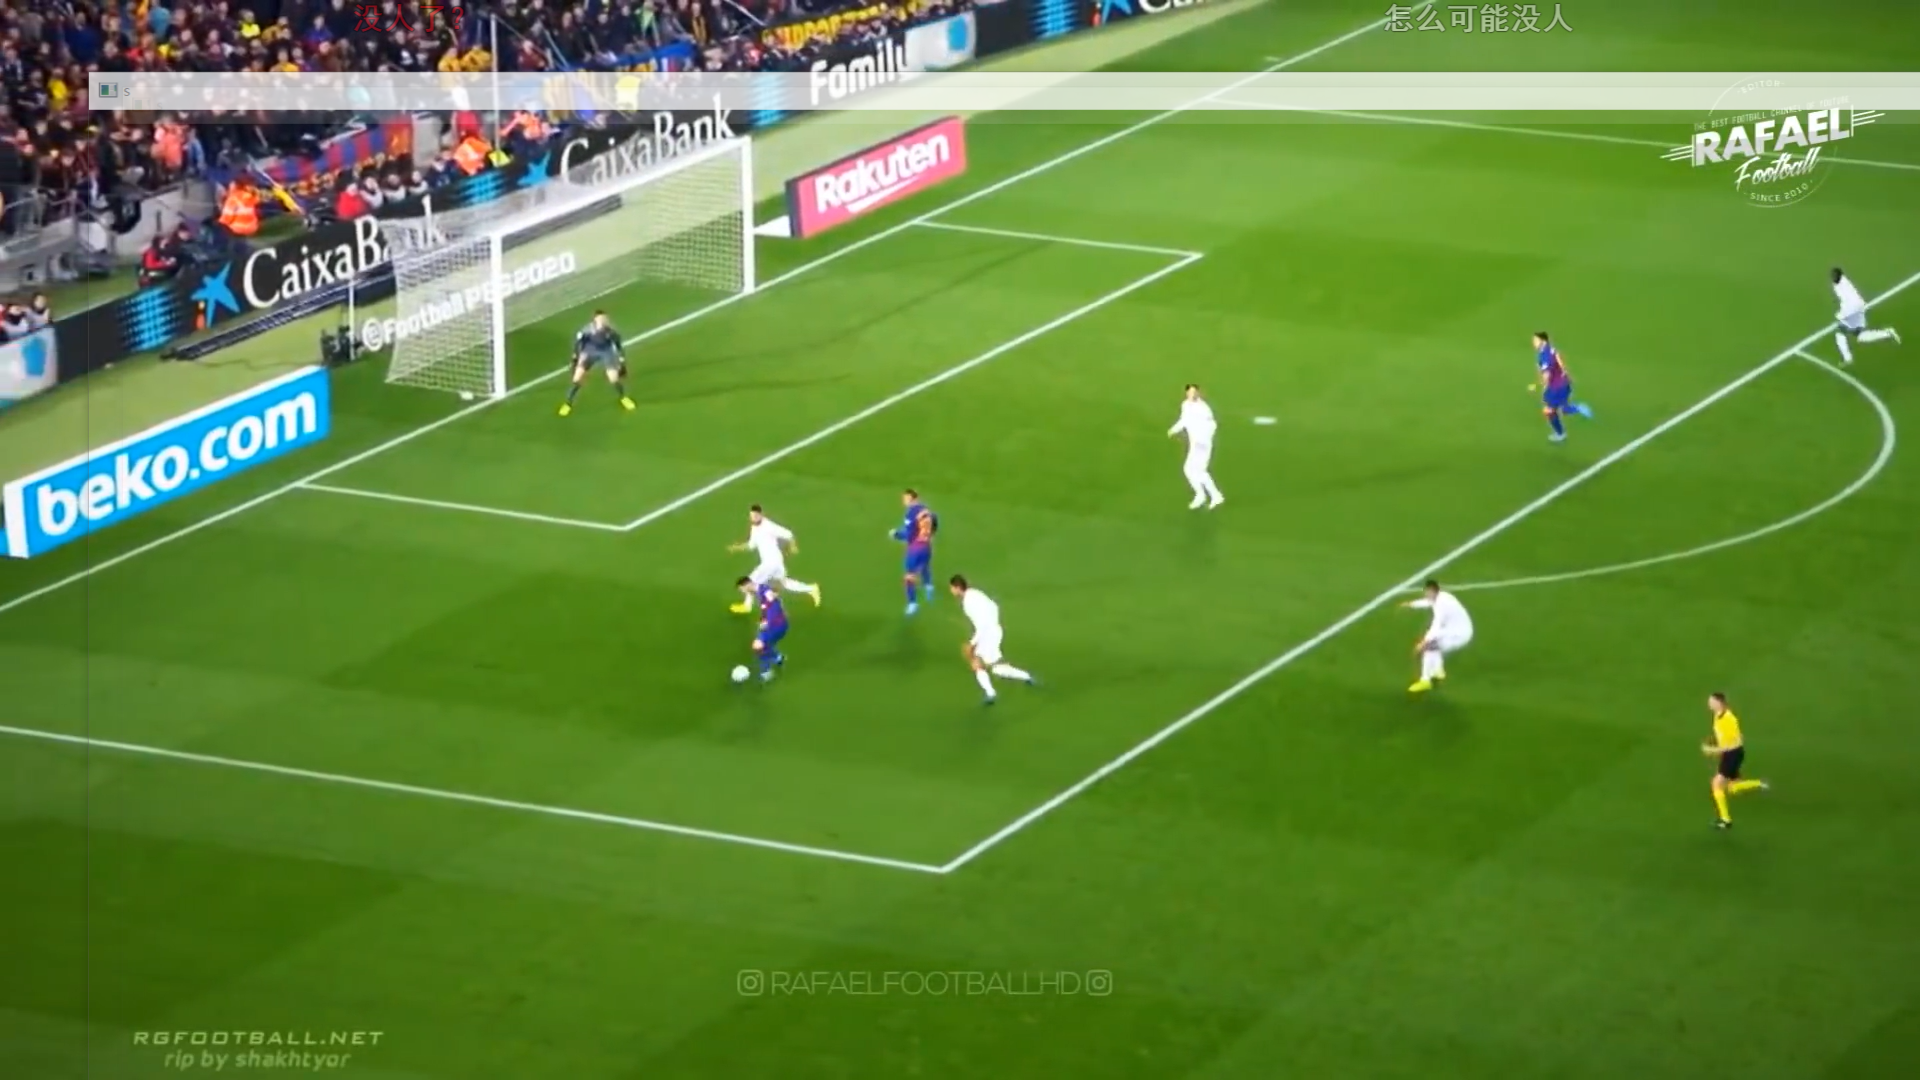ft: (727, 661, 752, 684)
